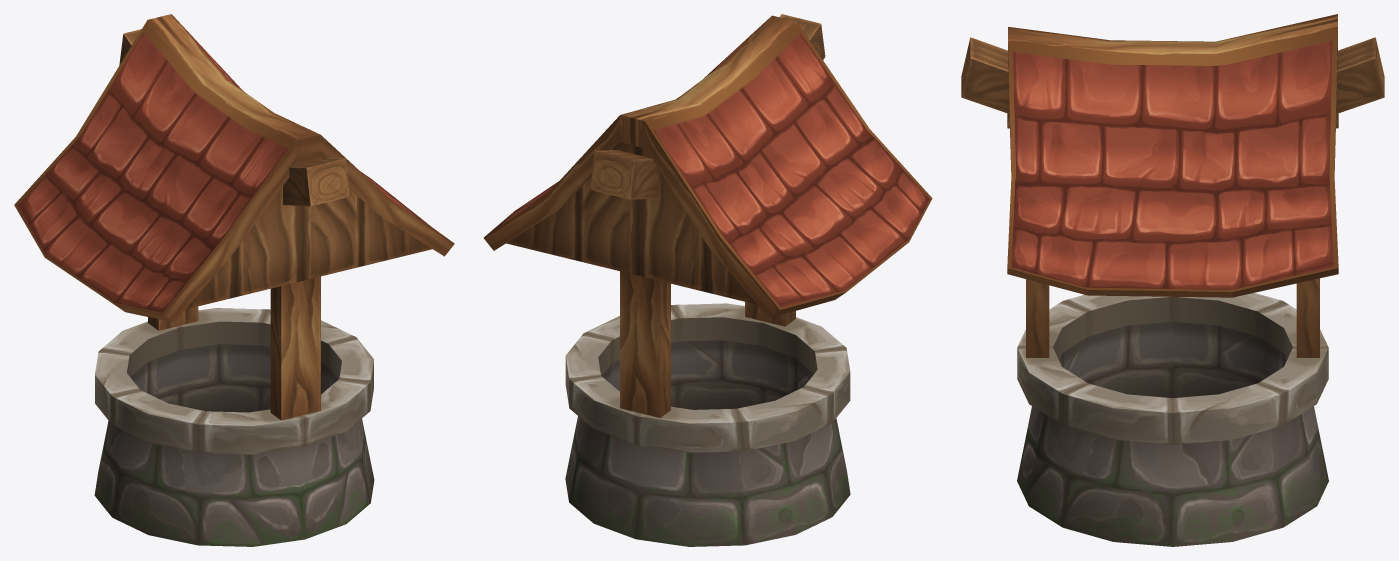
The model's file is Well.FBX.
The picture shows the model from 3 angles, left to right: view 1: azimuth 30°, elevation 25°; view 2: azimuth 150°, elevation 25°; view 3: azimuth 270°, elevation 25°; orthographic projection. The views are drawn at different scales.
Parts seen in each view (by area): view 1: Well; view 2: Well; view 3: Well.
Boxes of the visible parts, left/top/right/bottom form: Well: left=14, top=14, right=454, bottom=546; Well: left=483, top=14, right=932, bottom=546; Well: left=961, top=14, right=1384, bottom=546.
Size of what is drawn, in the model's own units: 267 by 272 by 326.
